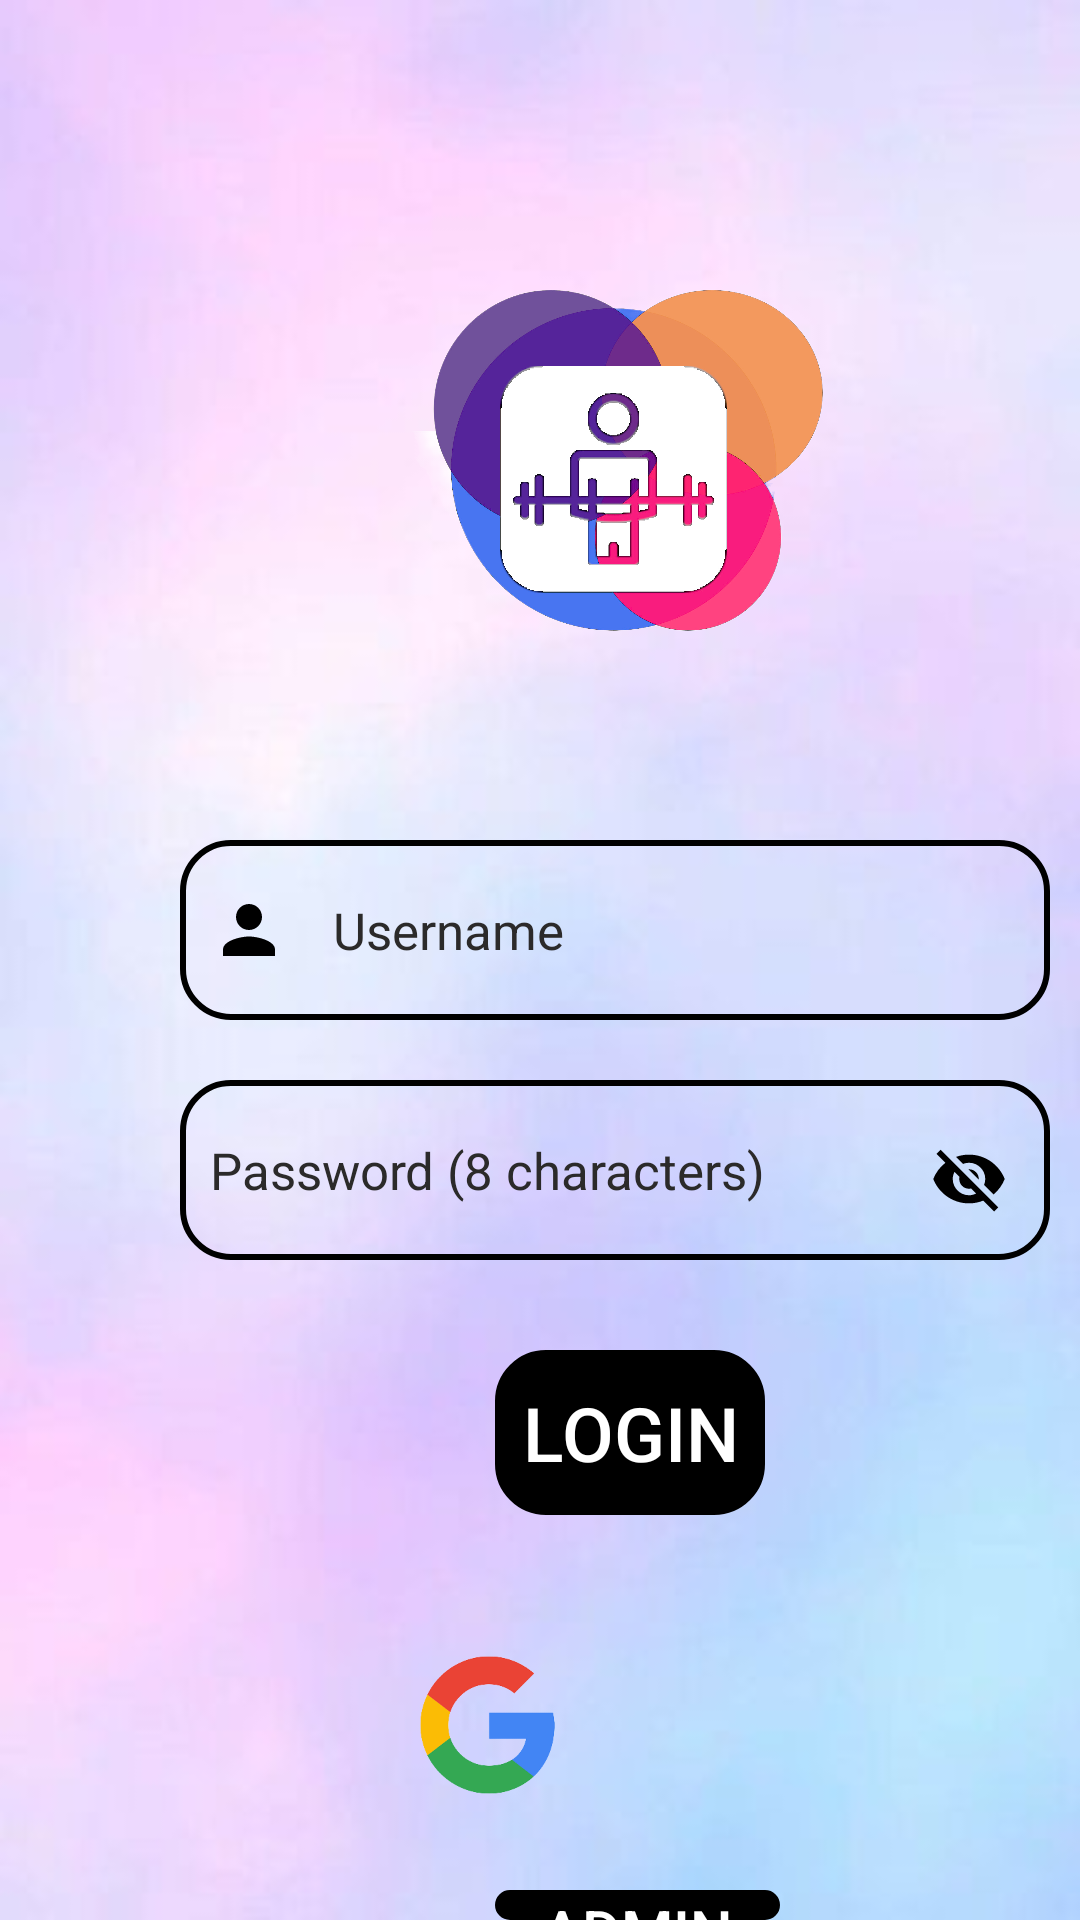

Icons on this 1080*1920 Android screen, each with its box as (x1,y1,x2,y2):
visibility off: (933,1150,1005,1212)
